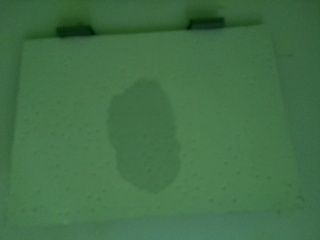Water_detected: (112, 92, 185, 184)
